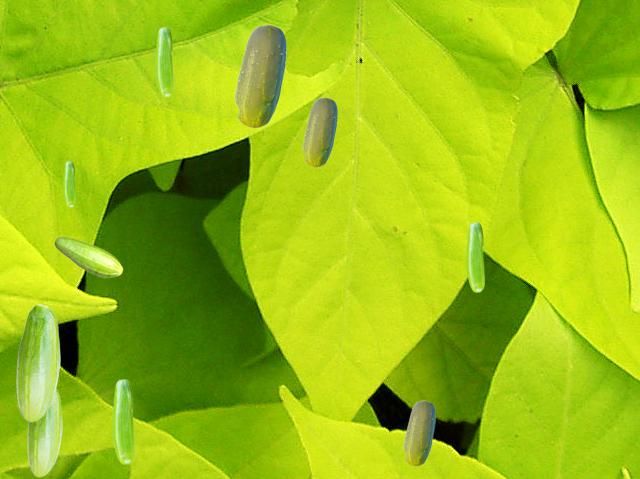cucumber: (234, 24, 285, 127), (16, 304, 59, 421), (27, 389, 61, 476), (54, 236, 122, 277), (302, 97, 336, 166), (403, 400, 434, 465), (112, 379, 133, 463), (466, 222, 483, 291), (155, 27, 172, 96), (63, 161, 74, 206)
